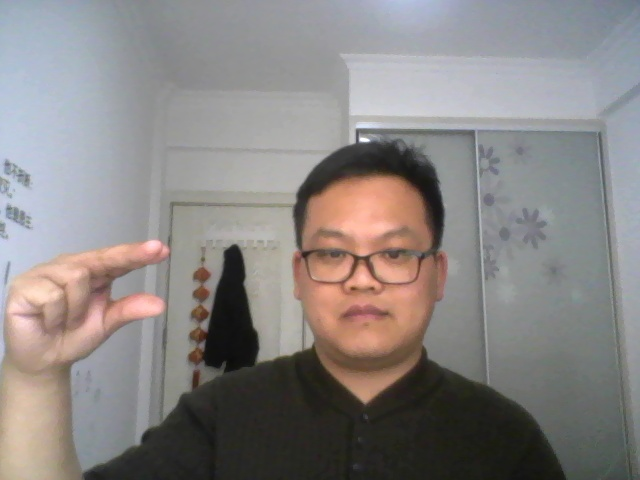No: (2, 235, 182, 377)
